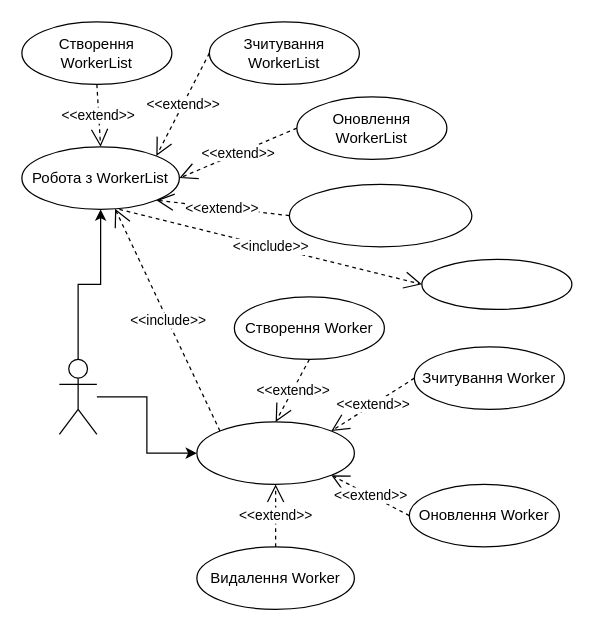
This 594x631 diagram has some shape labels left out. Here are the shapes that lost their labels. From the top down, the centre of each, then its label:
the point at 380,215: Видалення WorkerList
the point at 496,283: Авторизація
the point at 77,396: User
the point at 275,452: Робота з Worker
